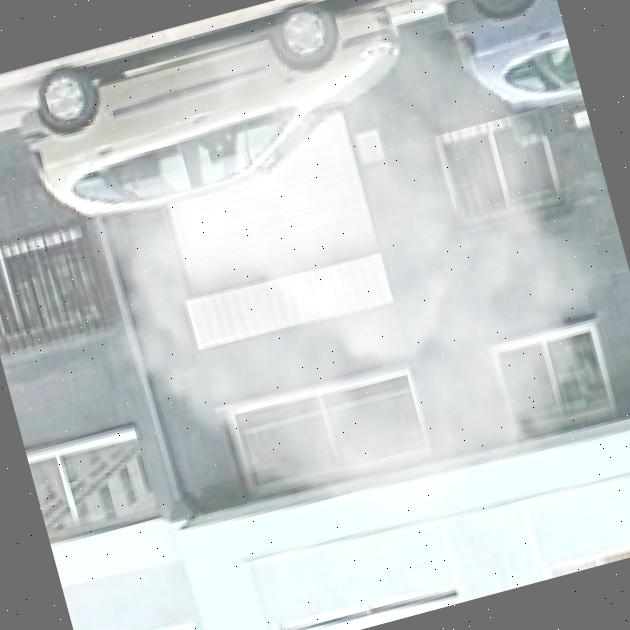smoke: (29, 0, 630, 588)
